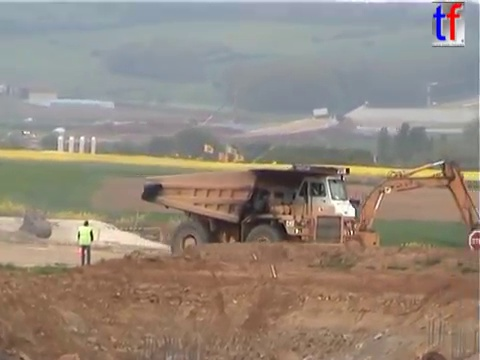excavator: (270, 157, 480, 269)
truck: (139, 163, 363, 269)
worker: (75, 217, 95, 269)
